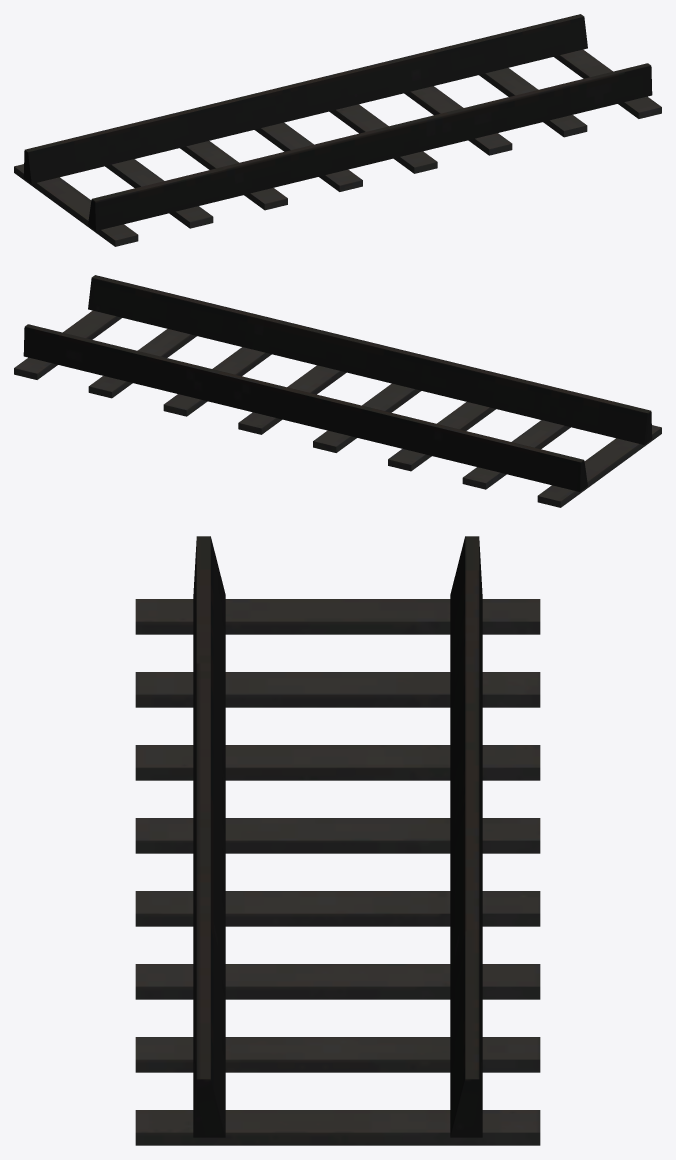
The model's file is SM_Railway_straight.fbx.
3 views of the same model, one above another, from view 1: azimuth 30°, elevation 25°; view 2: azimuth 150°, elevation 25°; view 3: azimuth 270°, elevation 25° (orthographic). The views are drawn at different scales.
Visible parts, largest first — view 1: SM_Railway_straight; view 2: SM_Railway_straight; view 3: SM_Railway_straight.
Part boxes in pixels (bbox=[...]): SM_Railway_straight: bbox=[14, 14, 661, 246]; SM_Railway_straight: bbox=[14, 275, 661, 507]; SM_Railway_straight: bbox=[135, 536, 540, 1145].
Bounding box in the file's own units: 20 × 1.22 × 6.3.
Materials: 1 (1 with a texture image).
